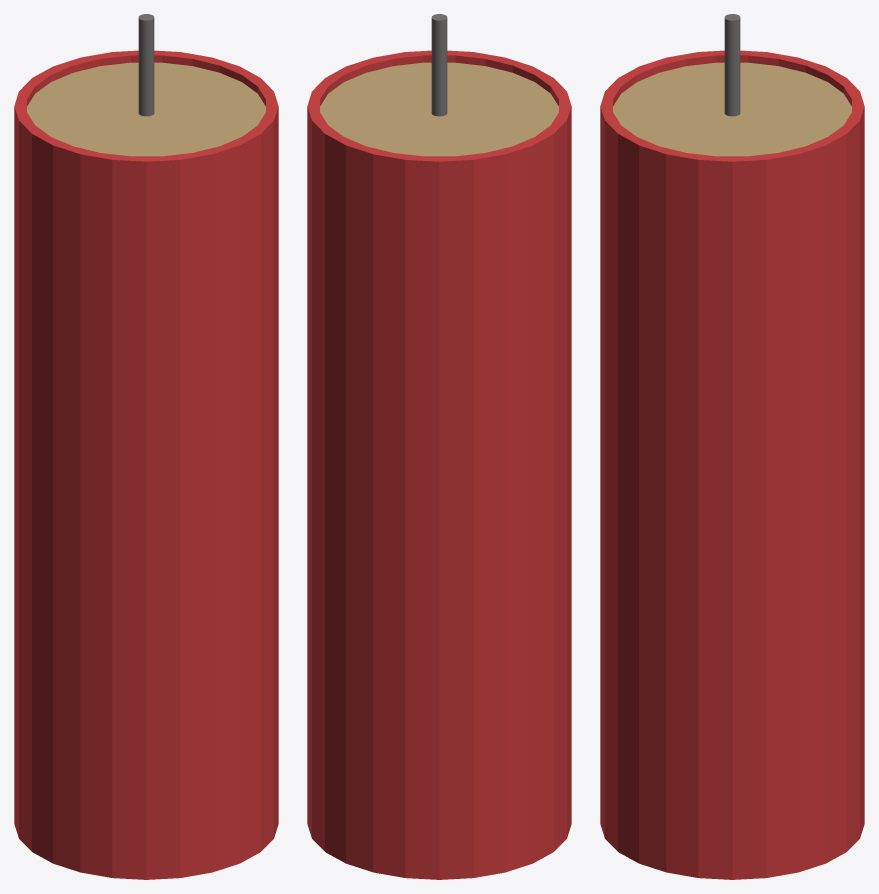
File: TNTStick.fbx
3 renders of one model, left to right at view 1: azimuth 30°, elevation 25°; view 2: azimuth 150°, elevation 25°; view 3: azimuth 270°, elevation 25°, orthographic.
Visible parts, largest first — view 1: skp2EEC1; view 2: skp2EEC1; view 3: skp2EEC1.
Boxes of the visible parts, x1=… form: skp2EEC1: x1=14, y1=14, x2=278, y2=879; skp2EEC1: x1=307, y1=14, x2=571, y2=879; skp2EEC1: x1=600, y1=14, x2=864, y2=879.
Bounding box in the file's own units: 50 × 168 × 50.
